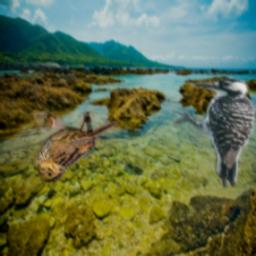Sparrow: (34, 111, 118, 182)
Woodpecker: (170, 78, 256, 189)
